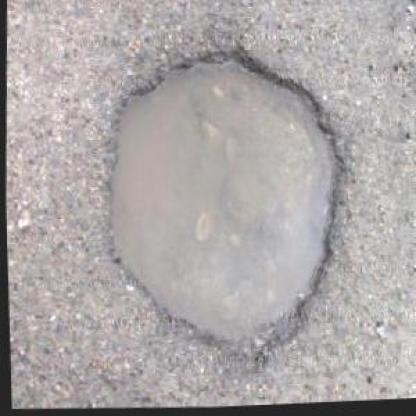pothole: (93, 38, 354, 377)
